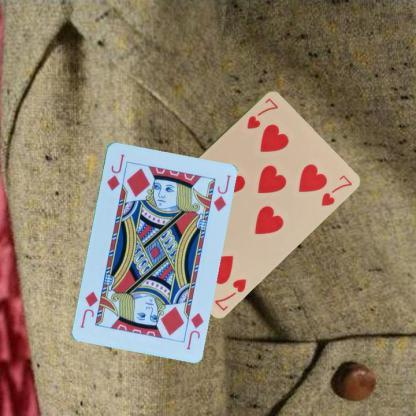7h: (211, 276, 248, 312), (244, 95, 280, 130)
Jd: (183, 310, 205, 350), (104, 151, 125, 192)
